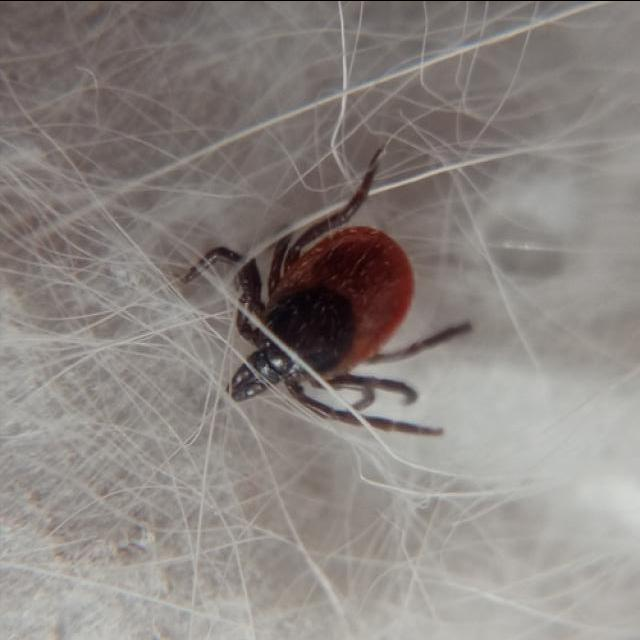Ixodes Ricinus-F: (183, 146, 471, 436)
